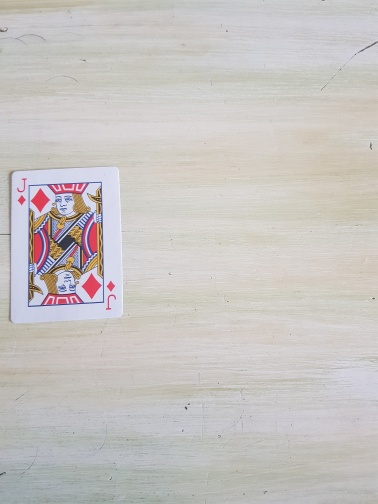jack: (8, 165, 124, 325)
